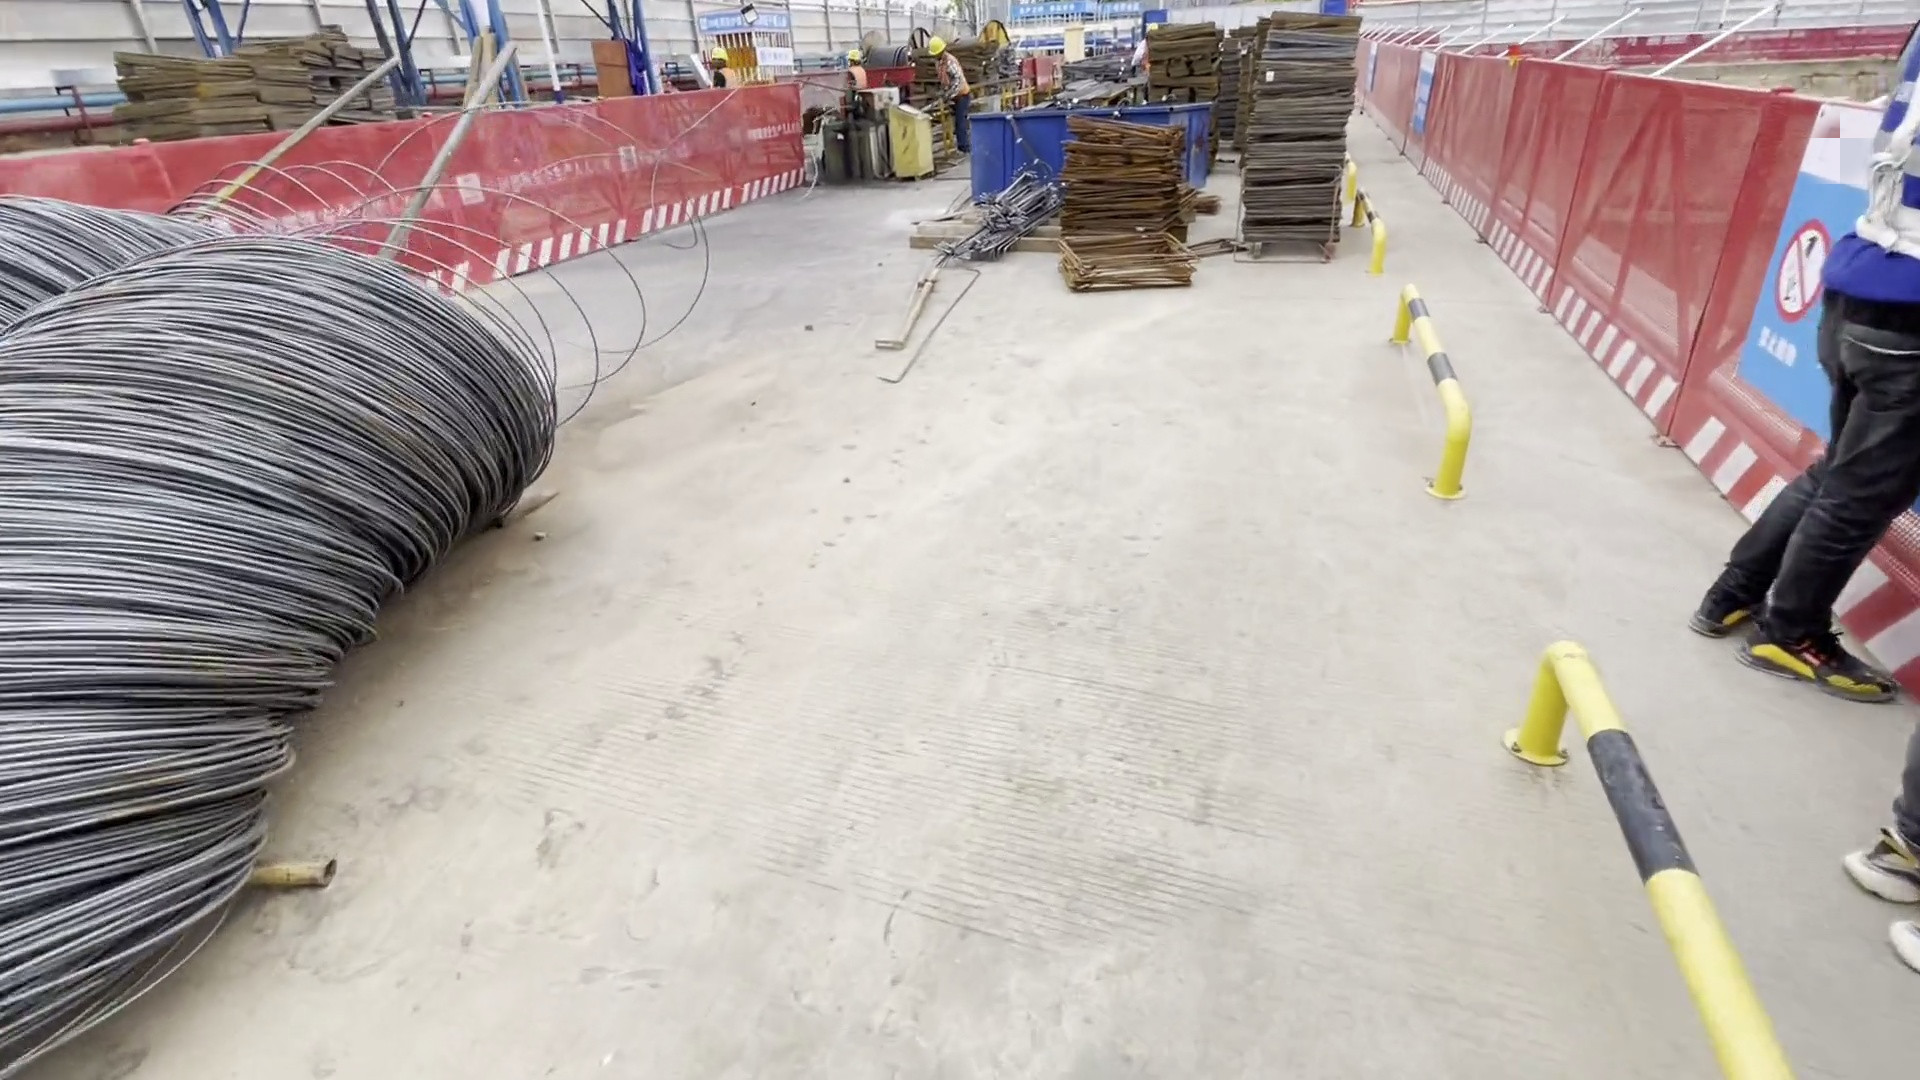helmet: (925, 40, 944, 56), (846, 49, 862, 63), (710, 48, 727, 61)
person: (1683, 6, 1920, 722), (923, 37, 970, 164), (704, 51, 736, 91), (841, 50, 867, 89)
vest: (1805, 11, 1920, 296), (937, 60, 966, 100), (715, 66, 741, 90), (846, 66, 865, 88)
